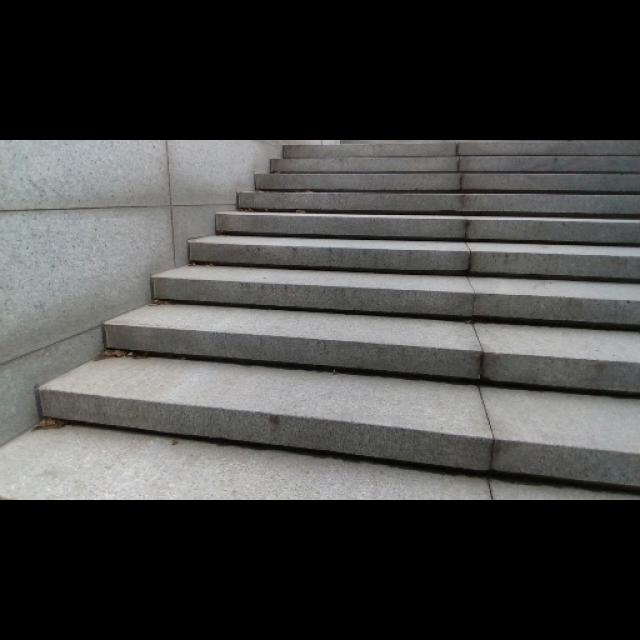Stairs: (16, 137, 639, 495)
